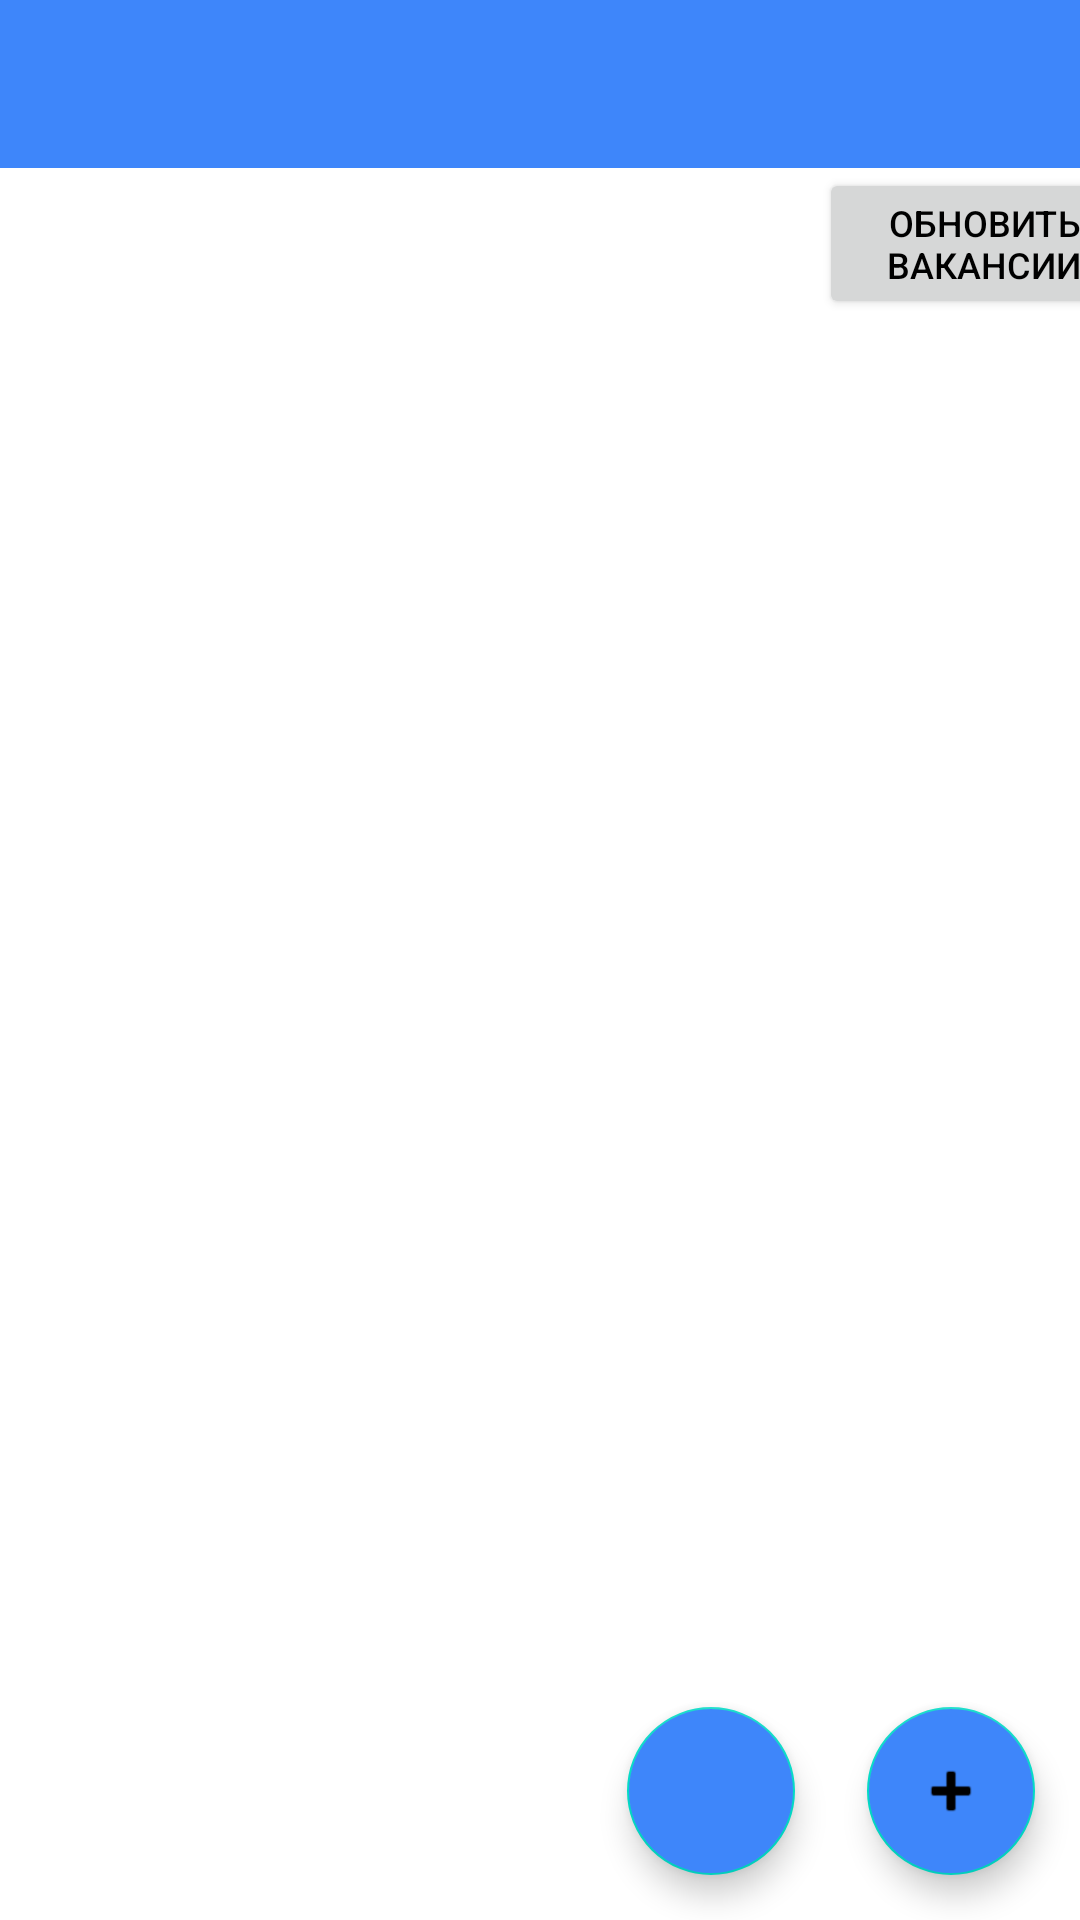

Icon click points for this 1080x1920 phone screenshot, format point (x, y):
add: point (951, 1791)
